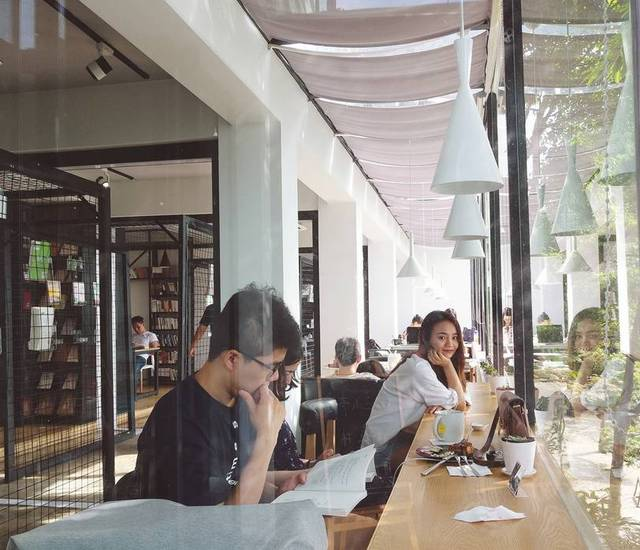face: (226, 345, 283, 398), (429, 321, 459, 362), (132, 318, 143, 338)
specialarea: (267, 362, 281, 376), (441, 337, 454, 344)
